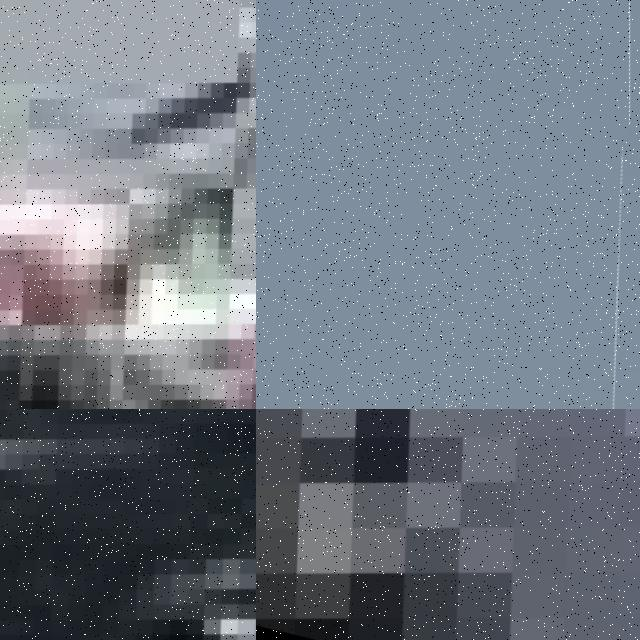drone: (0, 0, 256, 409), (256, 409, 640, 640), (0, 409, 256, 640), (523, 0, 640, 409)
